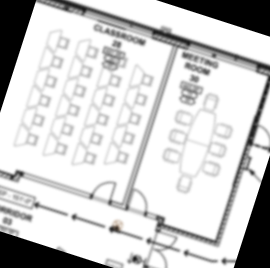door: (90, 175, 119, 205), (126, 187, 154, 215), (249, 122, 270, 151)
double door: (144, 229, 182, 268)
wall: (211, 141, 257, 250), (154, 221, 220, 248), (149, 30, 194, 54), (37, 0, 88, 18), (0, 164, 22, 186), (255, 65, 270, 85), (147, 268, 203, 268)
